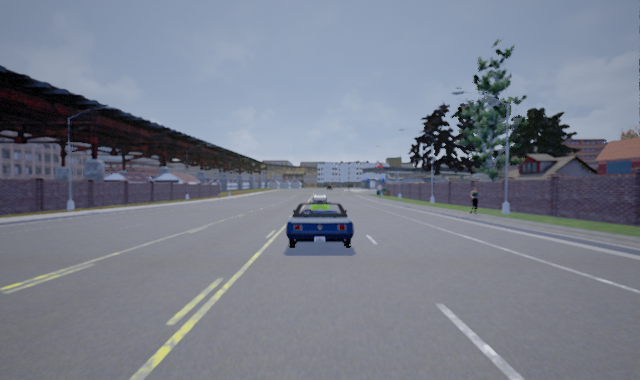pedestrian: (466, 184, 482, 214)
vehicle: (284, 199, 355, 253), (308, 194, 331, 215)
